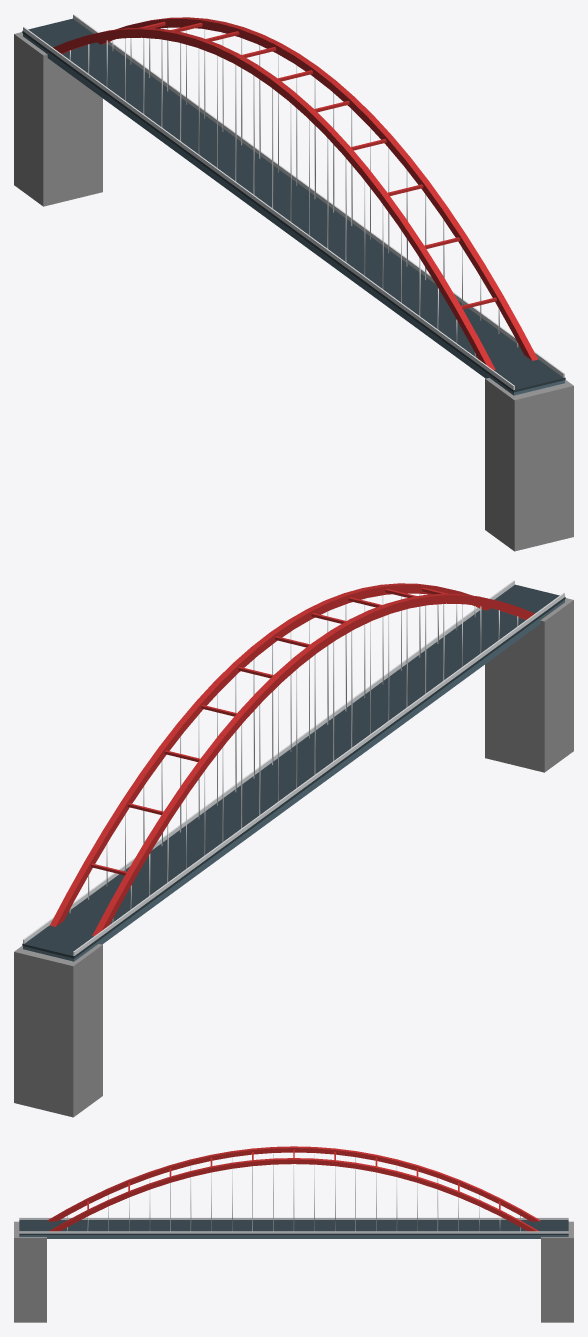
Rendered from Bridge.glb.
The picture shows the model from 3 angles, top to bottom: view 1: azimuth 30°, elevation 25°; view 2: azimuth 150°, elevation 25°; view 3: azimuth 270°, elevation 25°; orthographic projection. The views are drawn at different scales.
Visible parts, largest first — view 1: Bridge; view 2: Bridge; view 3: Bridge.
Boxes of the visible parts, left/top/right/bottom form: Bridge: left=14, top=14, right=573, bottom=551; Bridge: left=14, top=580, right=573, bottom=1117; Bridge: left=14, top=1146, right=573, bottom=1322.
Bounding box in the file's own units: 14 × 64.91 × 204.
